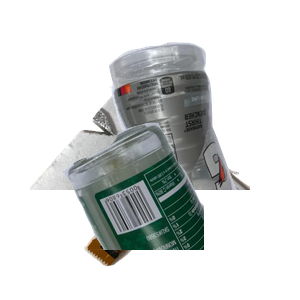glass: (60, 120, 300, 300)
paper: (10, 10, 250, 190)
plastic: (106, 40, 300, 220)
trash: (82, 151, 260, 300)
